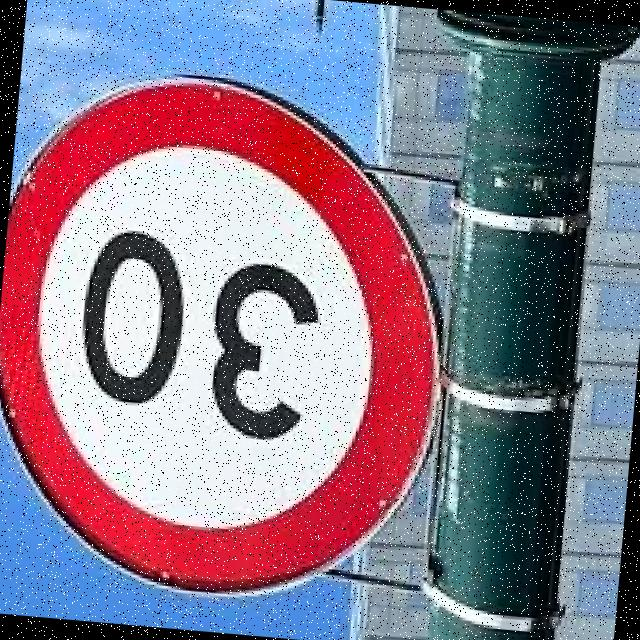speed_limit_30: (0, 52, 463, 619)
